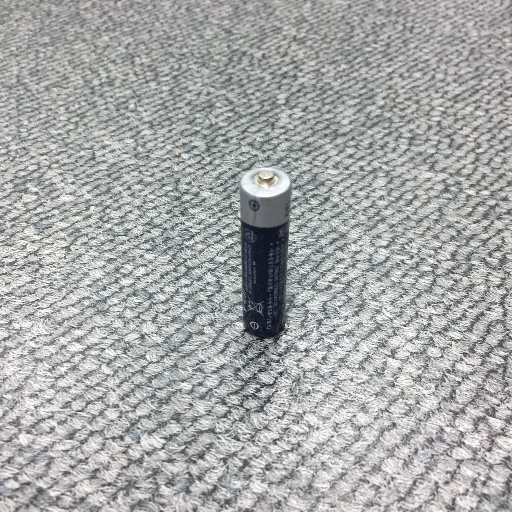Battery_0: (232, 162, 301, 346)
